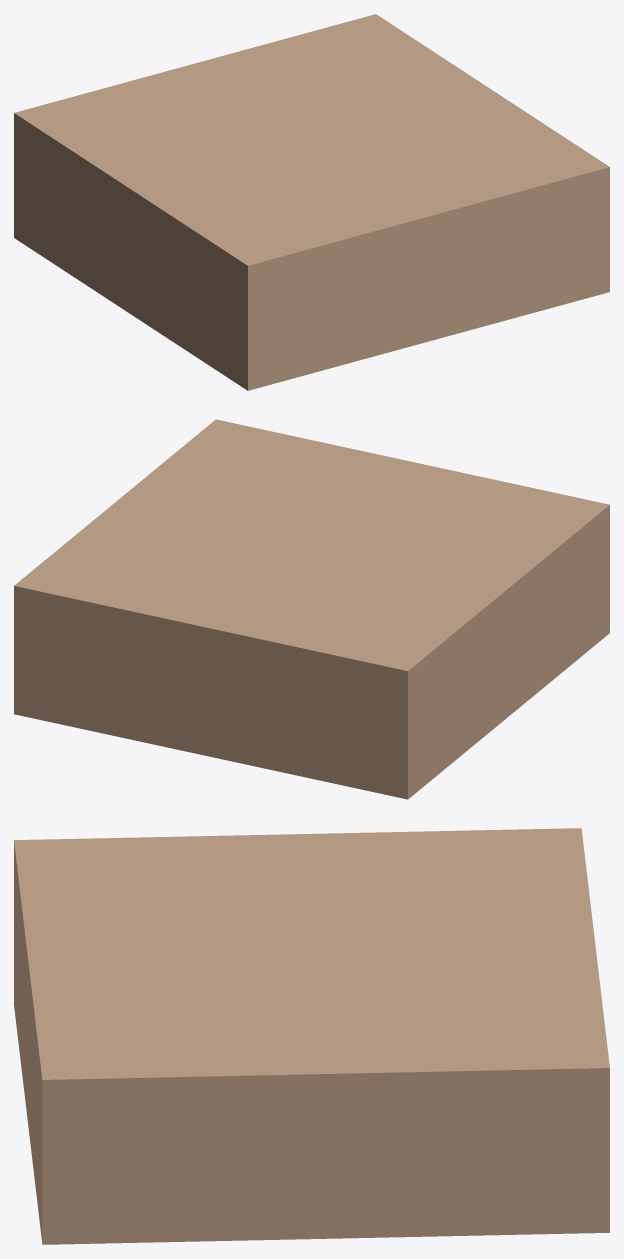
Rendered from textil_almofada2.glb.
The picture shows the model from 3 angles, top to bottom: view 1: azimuth 30°, elevation 25°; view 2: azimuth 150°, elevation 25°; view 3: azimuth 270°, elevation 25°; orthographic projection. The views are drawn at different scales.
Visible parts, largest first — view 1: TEXTIL_Almofada2_v01; view 2: TEXTIL_Almofada2_v01; view 3: TEXTIL_Almofada2_v01.
Boxes of the visible parts, x1,y1,x2,y2 form: TEXTIL_Almofada2_v01: (14, 14, 609, 390); TEXTIL_Almofada2_v01: (14, 419, 609, 799); TEXTIL_Almofada2_v01: (14, 828, 609, 1244).
Bounding box in the file's own units: 0.5244 × 0.16 × 0.5244.
